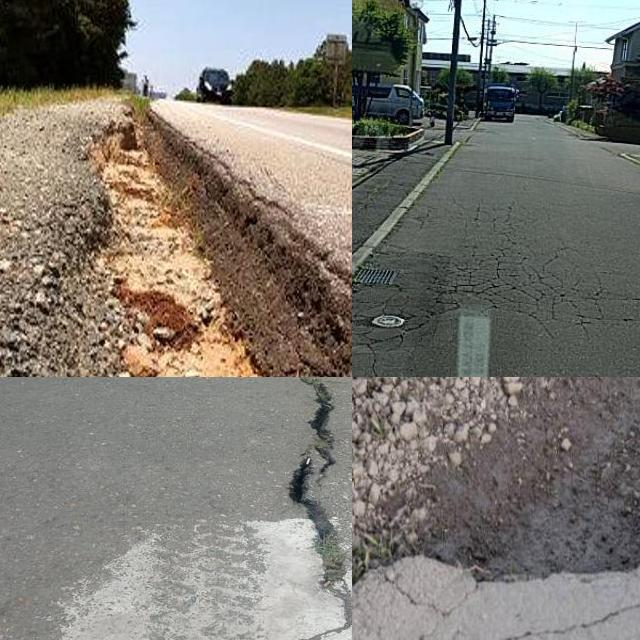Memanjang: (251, 377, 352, 640)
Pinggir: (56, 99, 352, 377), (352, 377, 640, 619)
Retak Buaya: (430, 228, 588, 320)
